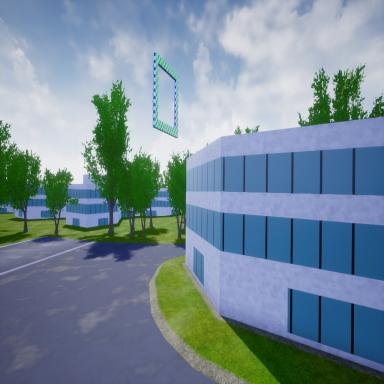gate: (152, 49, 180, 142)
